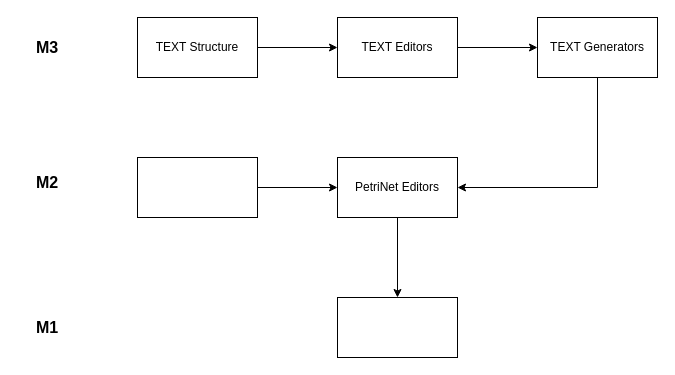
This 675x375 diagram has some shape labels left out. Each missing label, with the centre of its shape:
"PetriNet Code" goes at pixel 397 327.
"PetriNet Structure" goes at pixel 197 187.
